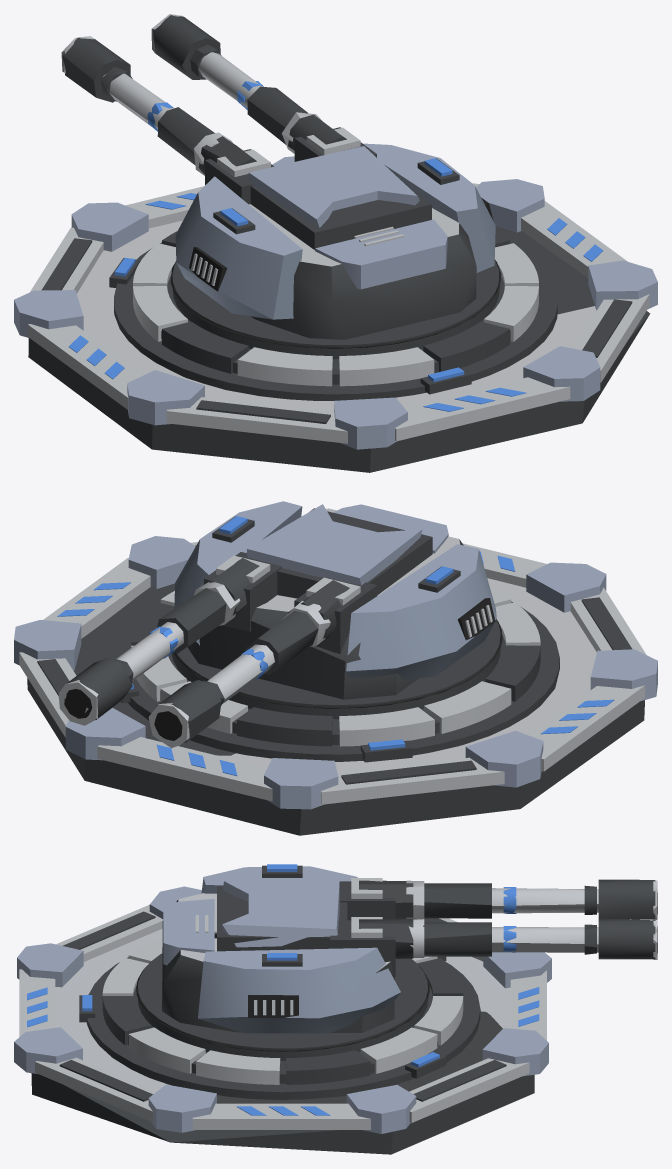
Rendered from turret.glb.
The picture shows the model from 3 angles, top to bottom: view 1: azimuth 30°, elevation 25°; view 2: azimuth 150°, elevation 25°; view 3: azimuth 270°, elevation 25°; orthographic projection. The views are drawn at different scales.
Parts seen in each view (by area): view 1: Base, Turret, Gun; view 2: Base, Turret, Gun; view 3: Base, Turret, Gun.
Boxes of the visible parts, <box> form: Base: <box>14,156,657,472</box>; Turret: <box>170,143,501,359</box>; Gun: <box>61,14,376,204</box>; Base: <box>14,536,657,835</box>; Turret: <box>172,501,502,719</box>; Gun: <box>58,552,377,748</box>; Base: <box>14,886,551,1154</box>; Turret: <box>136,864,429,1060</box>; Gun: <box>330,878,657,976</box>.
Bounding box in the file's own units: 7.6 × 2.31 × 9.1.
